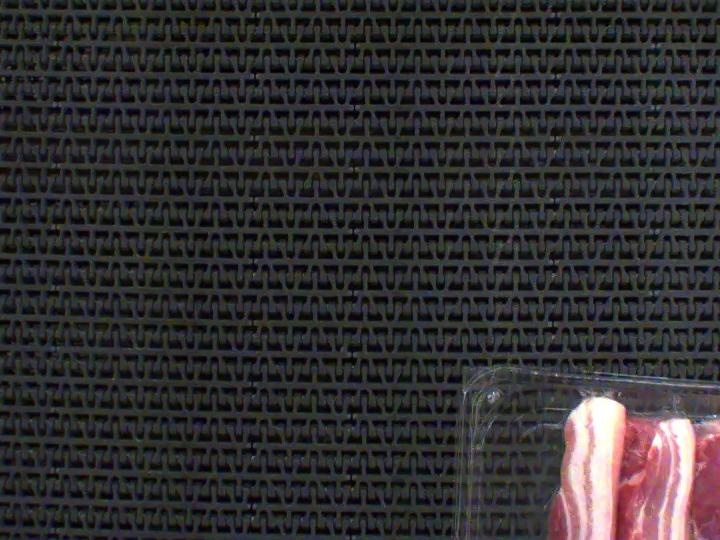packaging-error: (652, 394, 700, 434), (571, 384, 630, 416), (699, 391, 720, 428)
